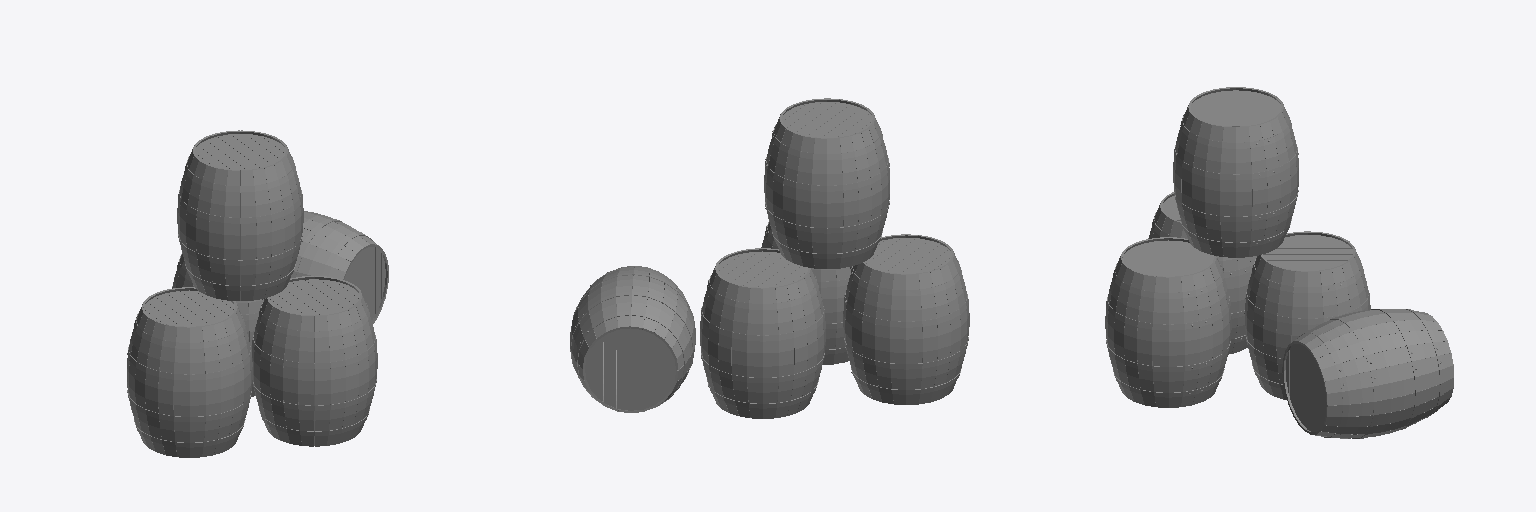
Rendered from Barrel.obj.
The picture shows the model from 3 angles: view 1: azimuth 30°, elevation 25°; view 2: azimuth 150°, elevation 25°; view 3: azimuth 270°, elevation 25°; orthographic projection.
Visible parts, largest first — view 1: wooden_barrel001, wooden_barrel003, wooden_barrel, wooden_barrel004, wooden_barrel002; view 2: wooden_barrel001, wooden_barrel002, wooden_barrel003, wooden_barrel004, wooden_barrel; view 3: wooden_barrel001, wooden_barrel004, wooden_barrel, wooden_barrel002, wooden_barrel003.
Part boxes in pixels (bbox=[...]): wooden_barrel001: bbox=[177, 130, 303, 300]; wooden_barrel003: bbox=[127, 287, 252, 457]; wooden_barrel: bbox=[252, 276, 377, 446]; wooden_barrel004: bbox=[291, 211, 388, 323]; wooden_barrel002: bbox=[172, 254, 291, 396]; wooden_barrel001: bbox=[764, 98, 889, 268]; wooden_barrel002: bbox=[700, 248, 825, 418]; wooden_barrel003: bbox=[843, 234, 969, 404]; wooden_barrel004: bbox=[570, 266, 695, 412]; wooden_barrel: bbox=[761, 222, 851, 364]; wooden_barrel001: bbox=[1173, 87, 1298, 257]; wooden_barrel004: bbox=[1282, 309, 1453, 438]; wooden_barrel: bbox=[1105, 237, 1231, 407]; wooden_barrel002: bbox=[1245, 231, 1370, 399]; wooden_barrel003: bbox=[1148, 192, 1256, 354].
Bounding box in the file's own units: 118 × 93.78 × 114.